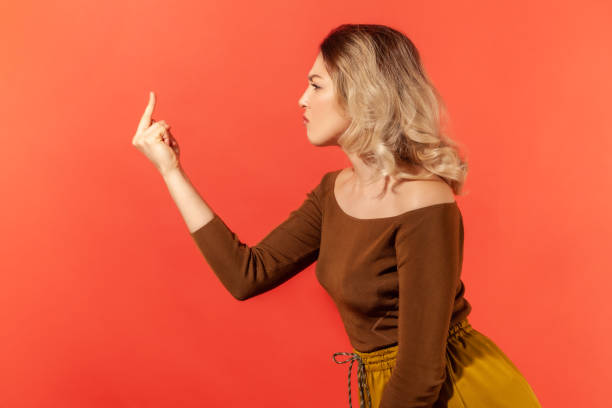insulting_gesture: (128, 90, 182, 169)
